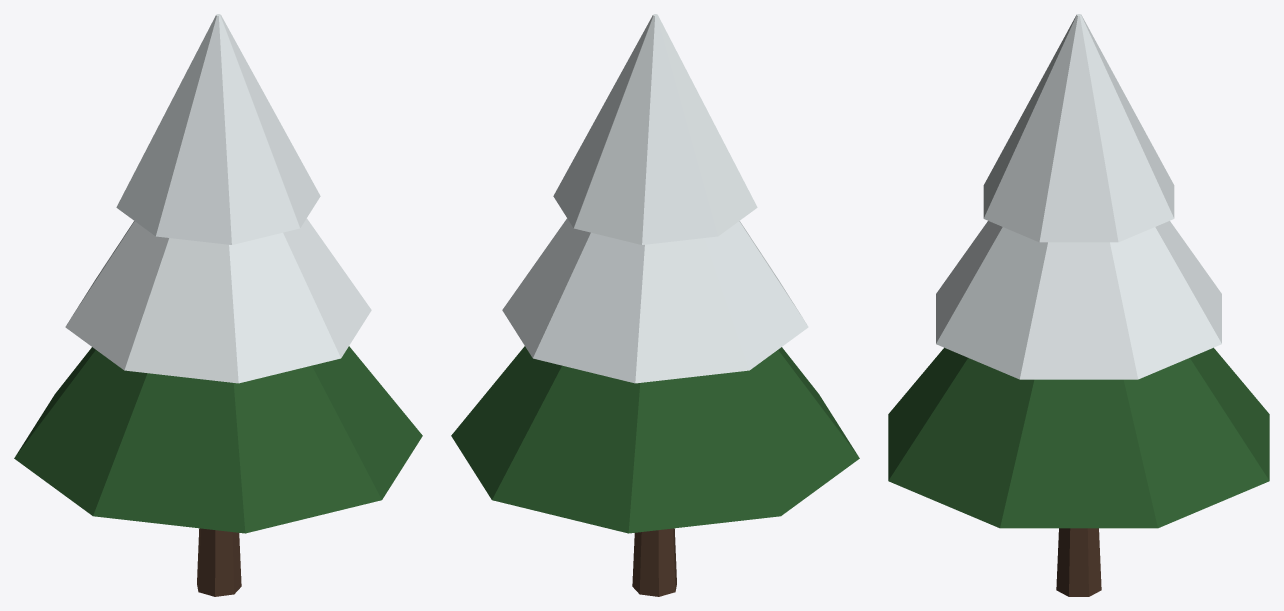
File: tree_pine_snowy.glb
The picture shows the model from 3 angles, left to right: view 1: azimuth 30°, elevation 25°; view 2: azimuth 150°, elevation 25°; view 3: azimuth 270°, elevation 25°; orthographic projection.
Visible parts, largest first — view 1: tree_pine_snowy; view 2: tree_pine_snowy; view 3: tree_pine_snowy.
Boxes of the visible parts, <box> form: tree_pine_snowy: <box>14,14,422,596</box>; tree_pine_snowy: <box>451,14,859,596</box>; tree_pine_snowy: <box>888,14,1269,596</box>.
Size of the model in its own units: 2.96 by 4.9 by 2.96.
